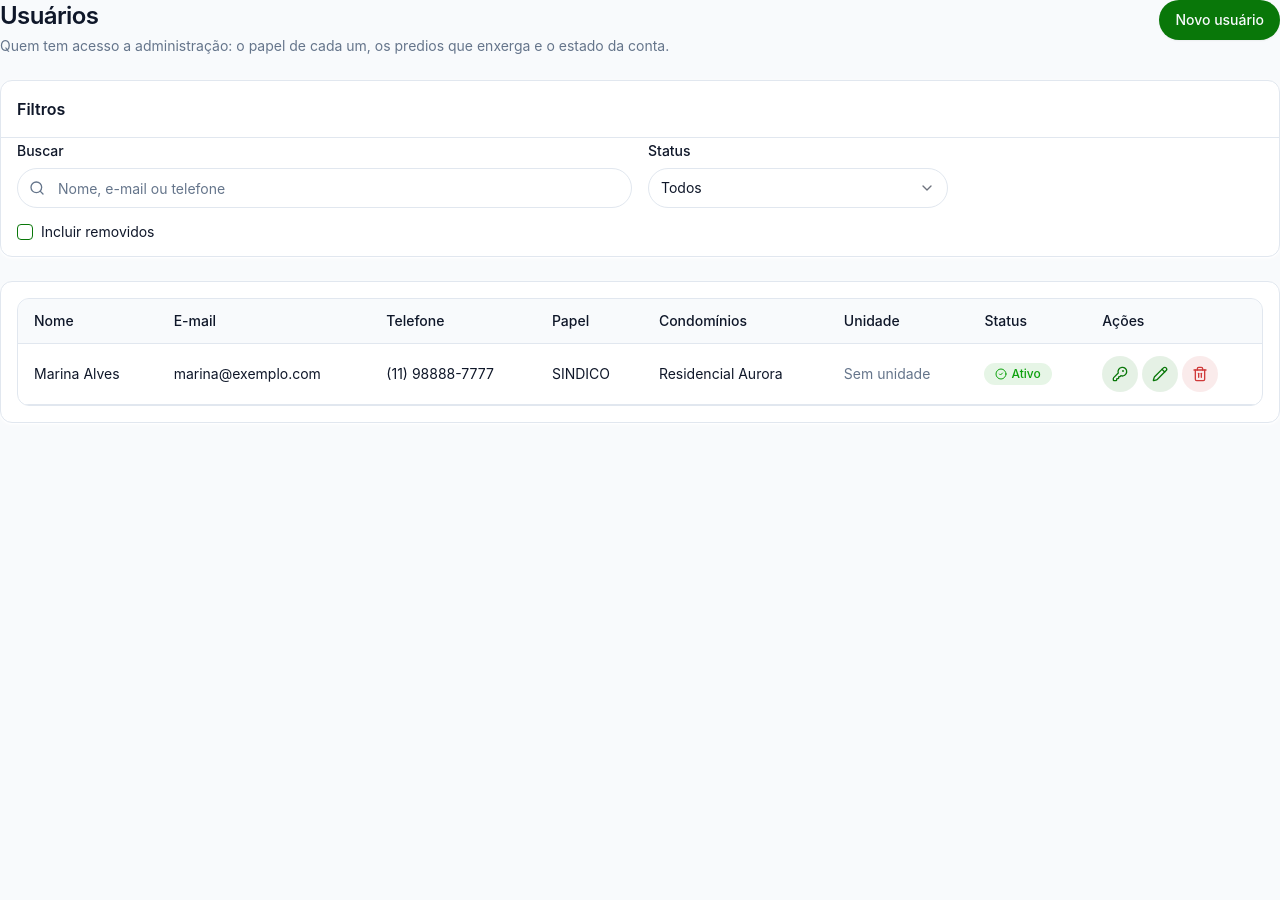
Scenario: Reset de senha › a senha temporária gerada aparece uma vez, para ser entregue
Click the button named "Resetar senha de Marina Alves" at coordinates (1120, 374), box [1102,356,1138,392]
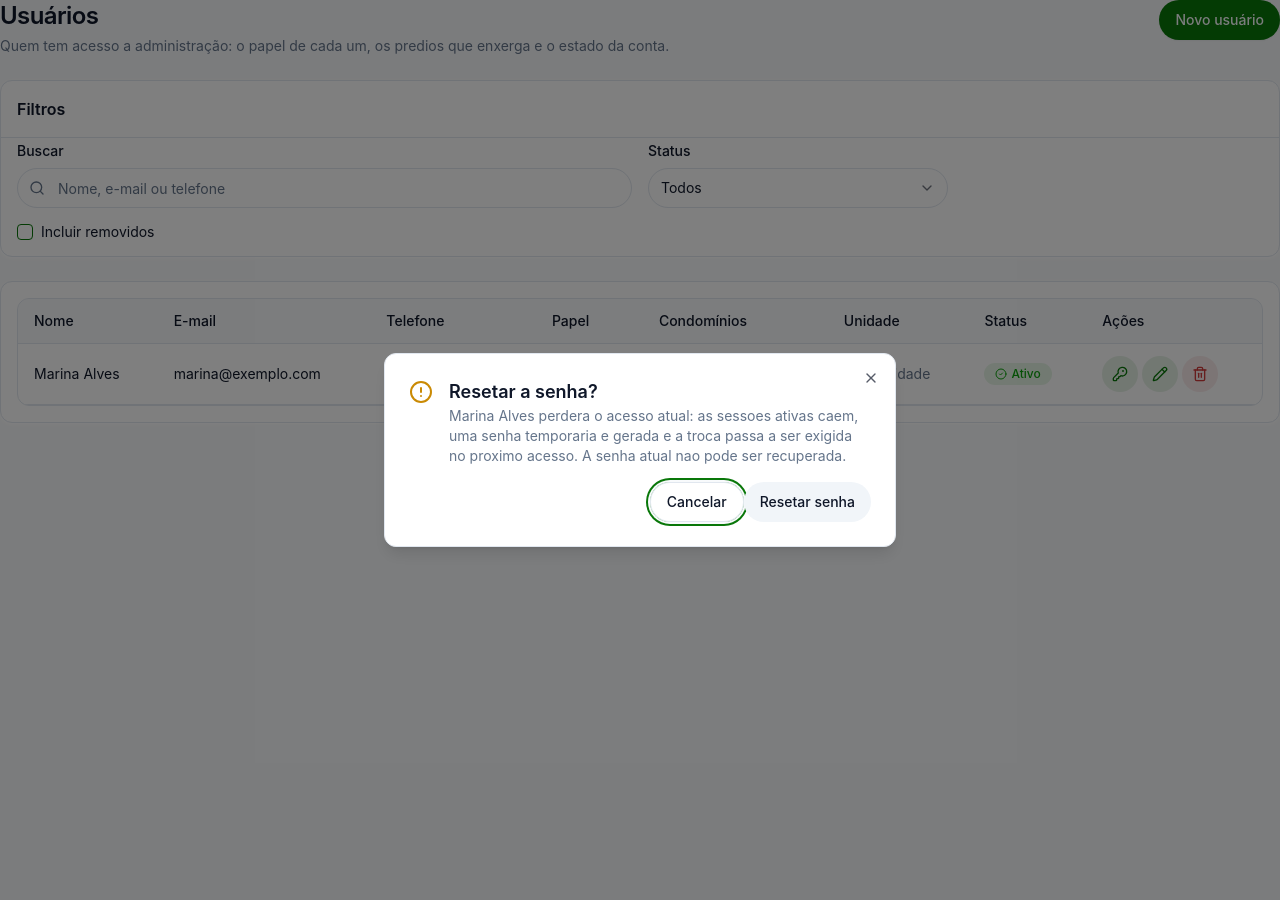
Click the button "Resetar senha" at coordinates (807, 502), box [744,482,871,522]
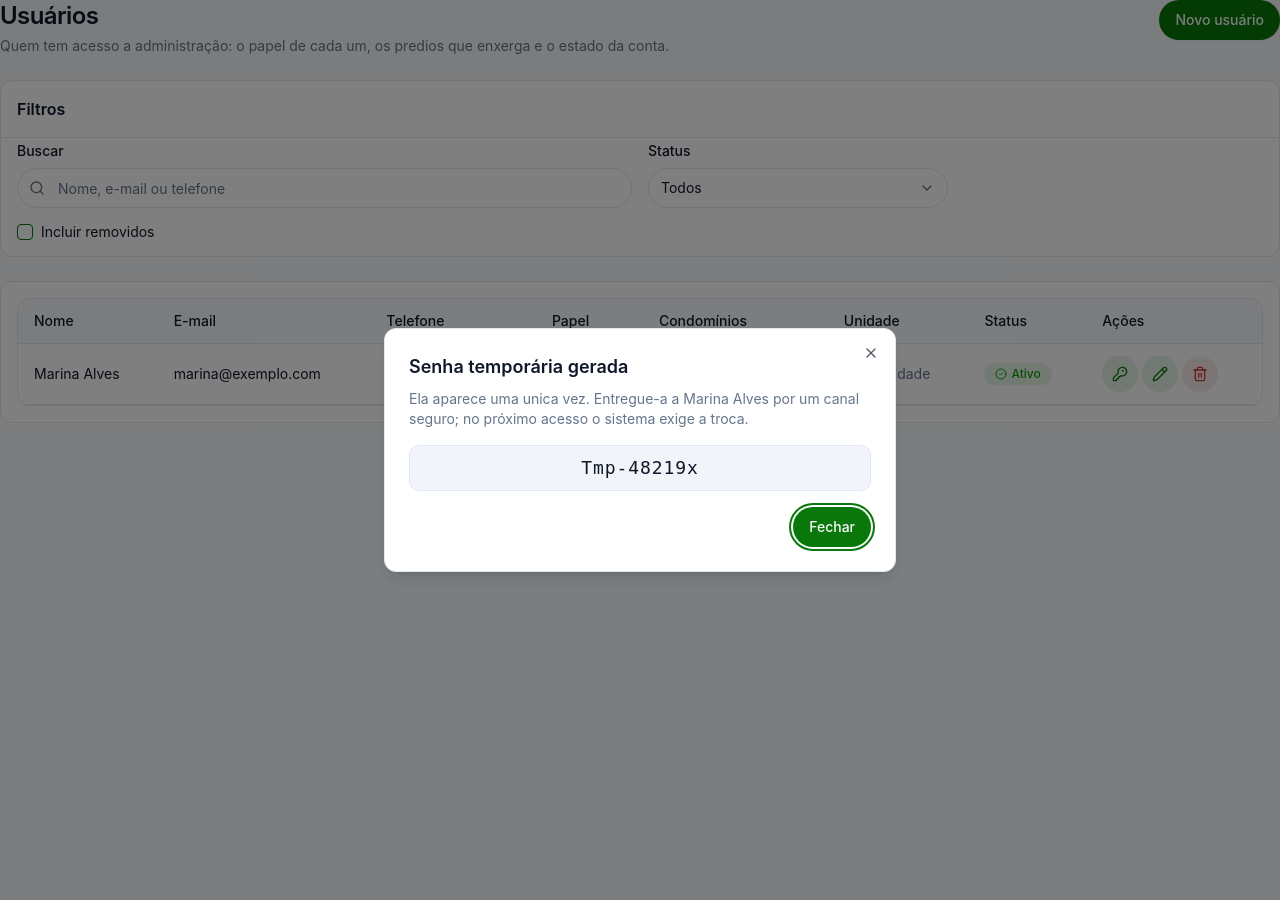
Check: the text "Tmp-48219x" is shown, box [409,445,871,491]
Check: the heading "Senha temporária gerada" is shown, box [409,356,628,377]
